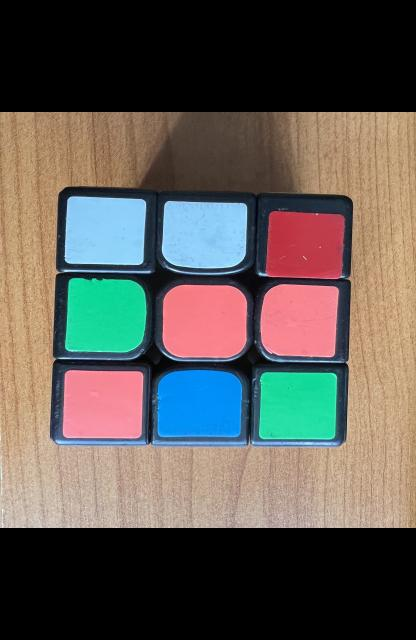Blue: (157, 370, 240, 437)
Green: (64, 278, 146, 352), (258, 372, 337, 439)
Orange: (162, 284, 245, 358), (259, 284, 338, 357), (62, 370, 143, 438)
Red: (264, 211, 344, 279)
White: (160, 201, 247, 269), (64, 196, 146, 265)
